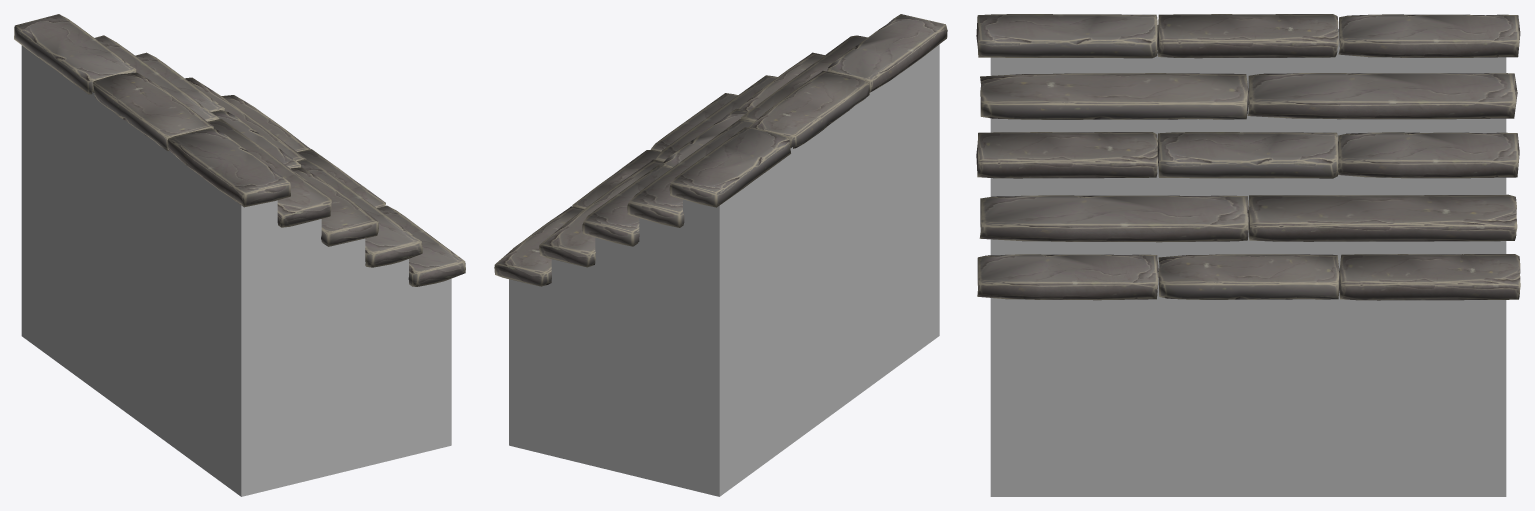
The model's file is SM_Stairs_Exterior_Bricks_02.fbx.
3 renders of one model, left to right at view 1: azimuth 30°, elevation 25°; view 2: azimuth 150°, elevation 25°; view 3: azimuth 270°, elevation 25°, orthographic. The views are drawn at different scales.
Visible parts, largest first — view 1: SM_Stairs_Exterior_Bricks_02; view 2: SM_Stairs_Exterior_Bricks_02; view 3: SM_Stairs_Exterior_Bricks_02.
Part boxes in pixels (bbox=[...]): SM_Stairs_Exterior_Bricks_02: bbox=[14, 14, 465, 496]; SM_Stairs_Exterior_Bricks_02: bbox=[494, 14, 947, 496]; SM_Stairs_Exterior_Bricks_02: bbox=[976, 14, 1520, 496].
Size of the model in its own units: 1.54 by 2.02 by 2.75.
